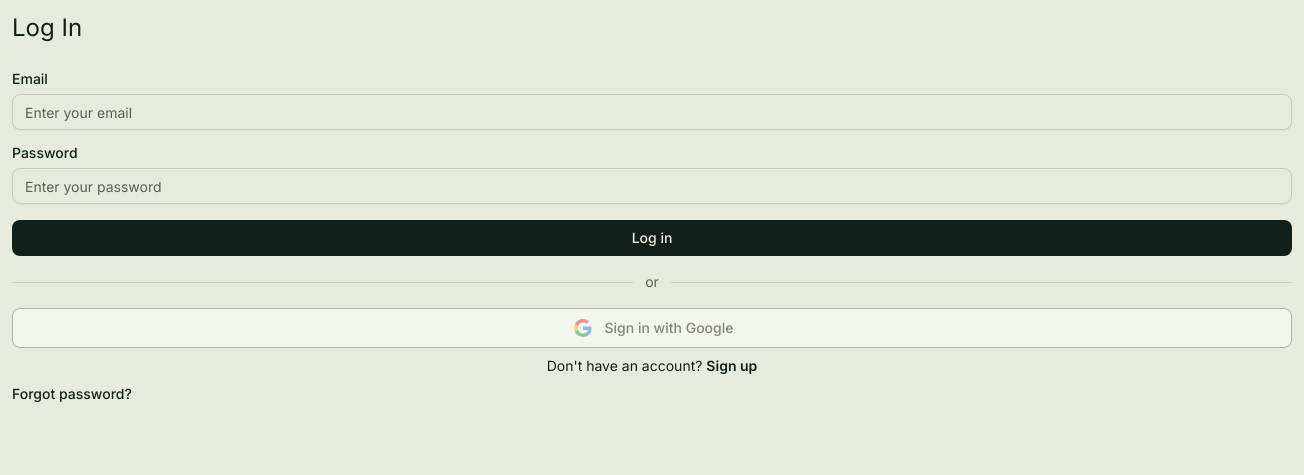
Scenario: LoginForm › validation › shows error when email is empty
What coordinates should you click on to do the following:
click the button "Log in"
I would click on:
 (652, 238)
Its box is [12,220,1292,256].
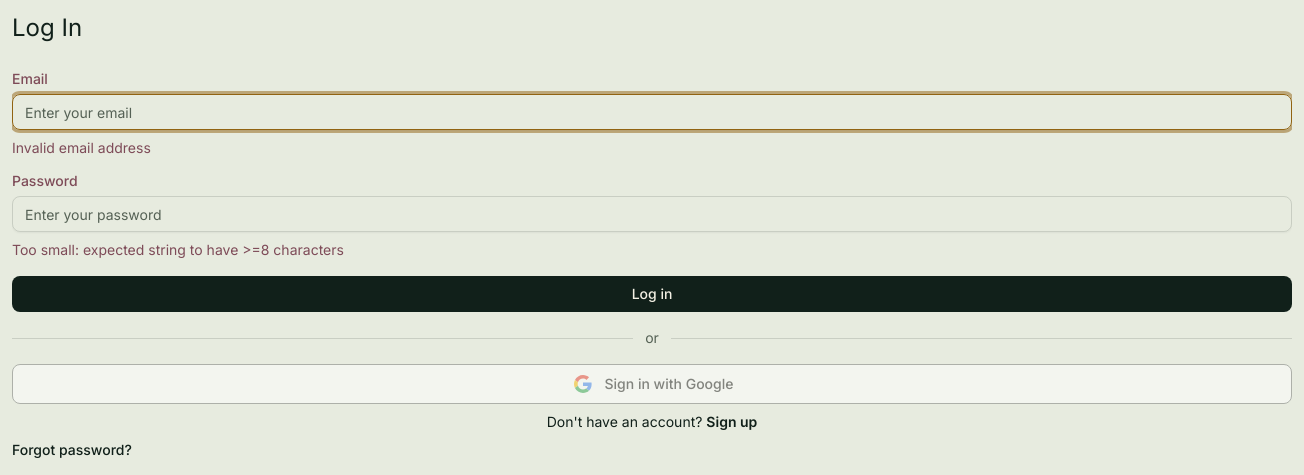
Expected: the text "Invalid email address" is shown, [12,139,151,156]
